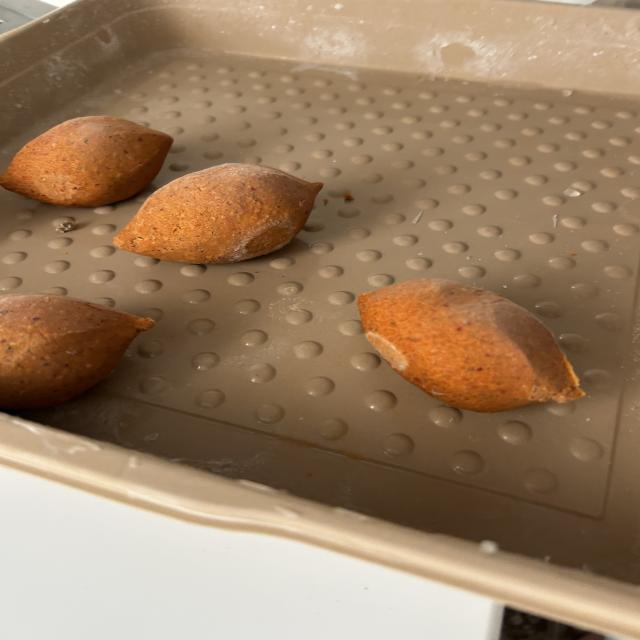kobi: (356, 277, 585, 413), (113, 163, 325, 266), (0, 292, 156, 410), (1, 114, 173, 207)
